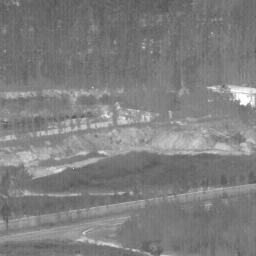aircraft: (92, 86, 94, 88)
